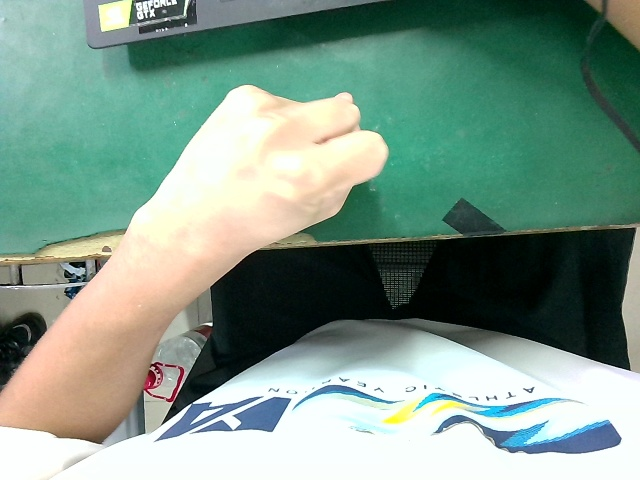stone: (125, 69, 399, 297)
